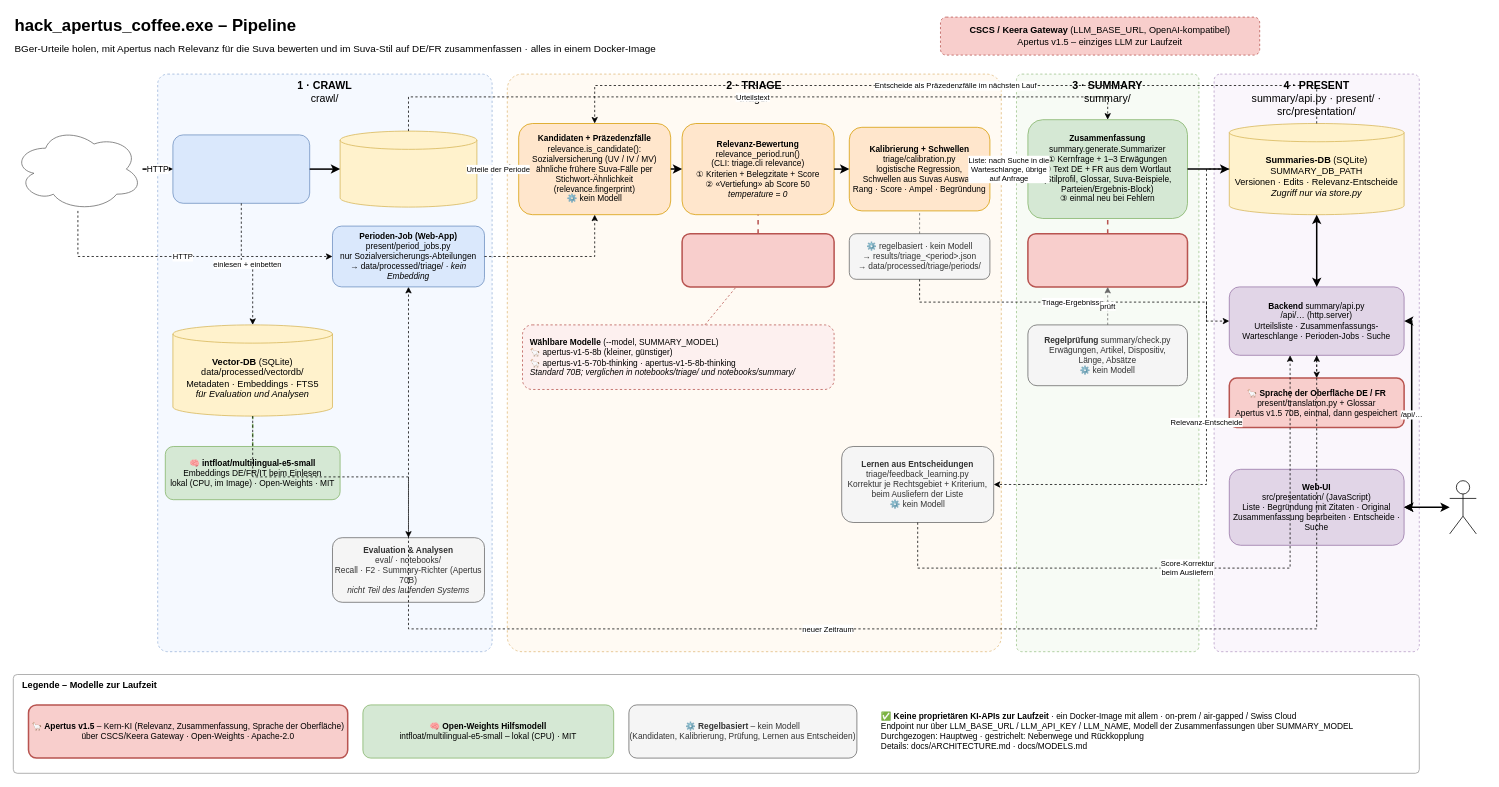
Some shapes in this 1499 by 787 pixel diagram are drawn without their labels. The centre of each missing label's shape, as x and y in pixels:
"Crawler (Pipeline) crawl.ensure_period() alle Abteilungen, nur fehlende Tage" goes at (x=241, y=168).
"data/raw/ <YYYY-MM>/*.json 1 JSON pro Urteil" goes at (x=408, y=168).
"Quellen entscheidsuche.ch (Spiegel von bger.ch) ~2000 Urteile / Quartal" goes at (x=77, y=169).
"Suva Jurist:innen" goes at (x=1462, y=507).
"🦙 Apertus v1.5 70B apertus-v1-5-70b (SUMMARY_MODEL) Kernaufgabe · Apache-2.0" goes at (x=1107, y=260).
"🦙 Apertus v1.5 70B apertus-v1-5-70b Kernaufgabe · Apache-2.0" goes at (x=757, y=260).
